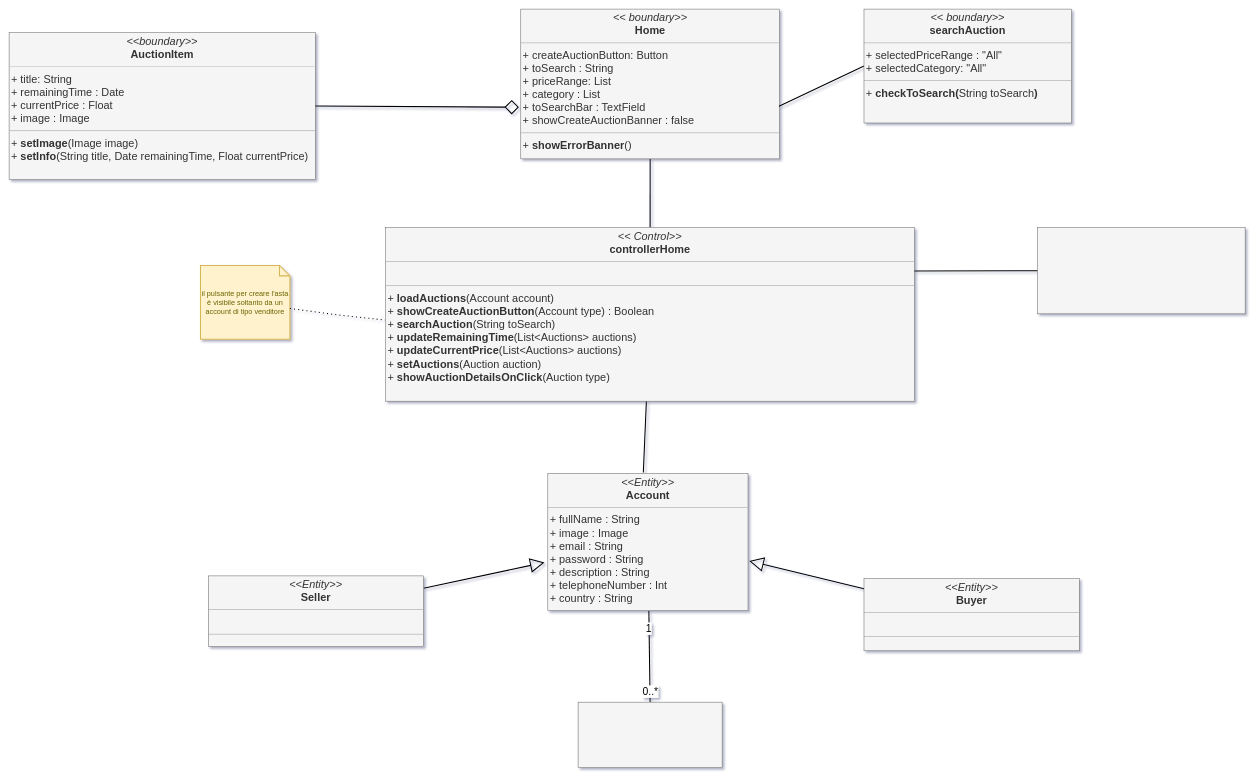
Image size: 1257x780. Some labels were removed from this diagram. Each missing label, with the centre of its shape:
"<< boundary >> AuctionDetails" belongs at pixel 1141 270.
"<<Entity>> SocialLink + link : String" belongs at pixel 650 735.
